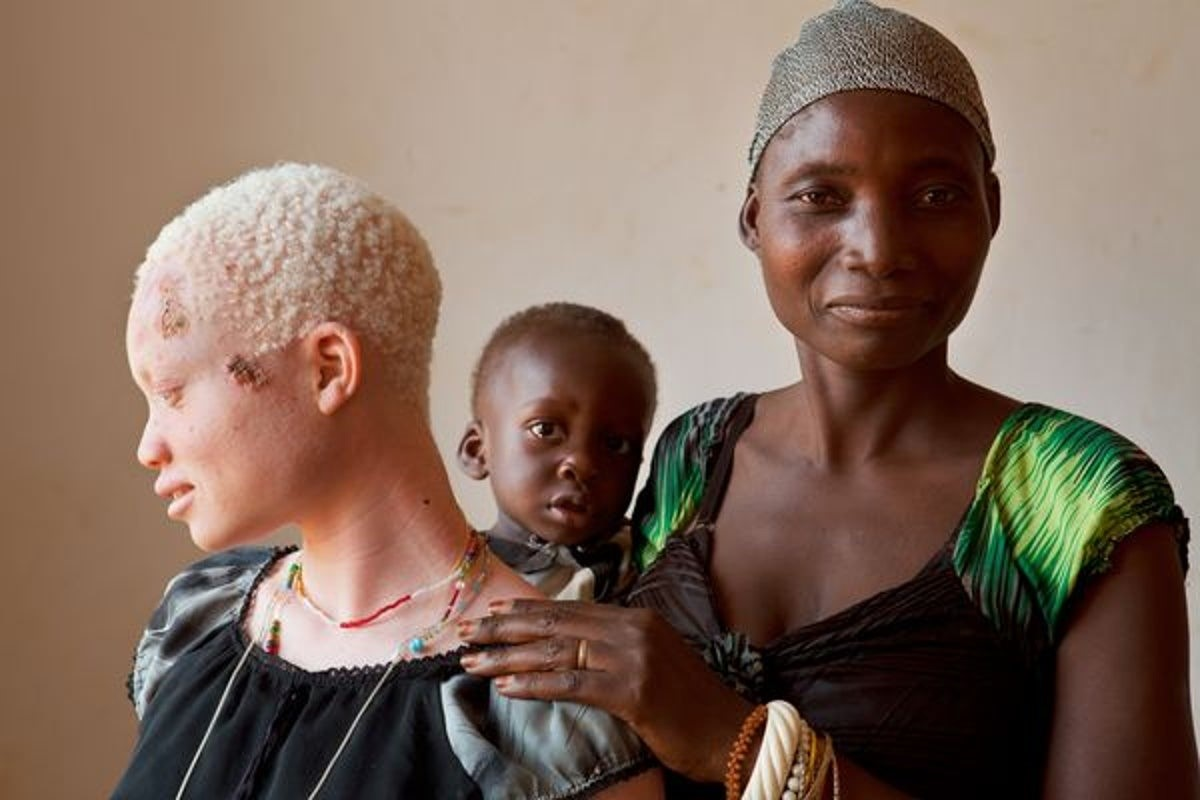face_no_mask: (123, 163, 442, 559), (739, 61, 996, 368), (458, 298, 654, 547)
